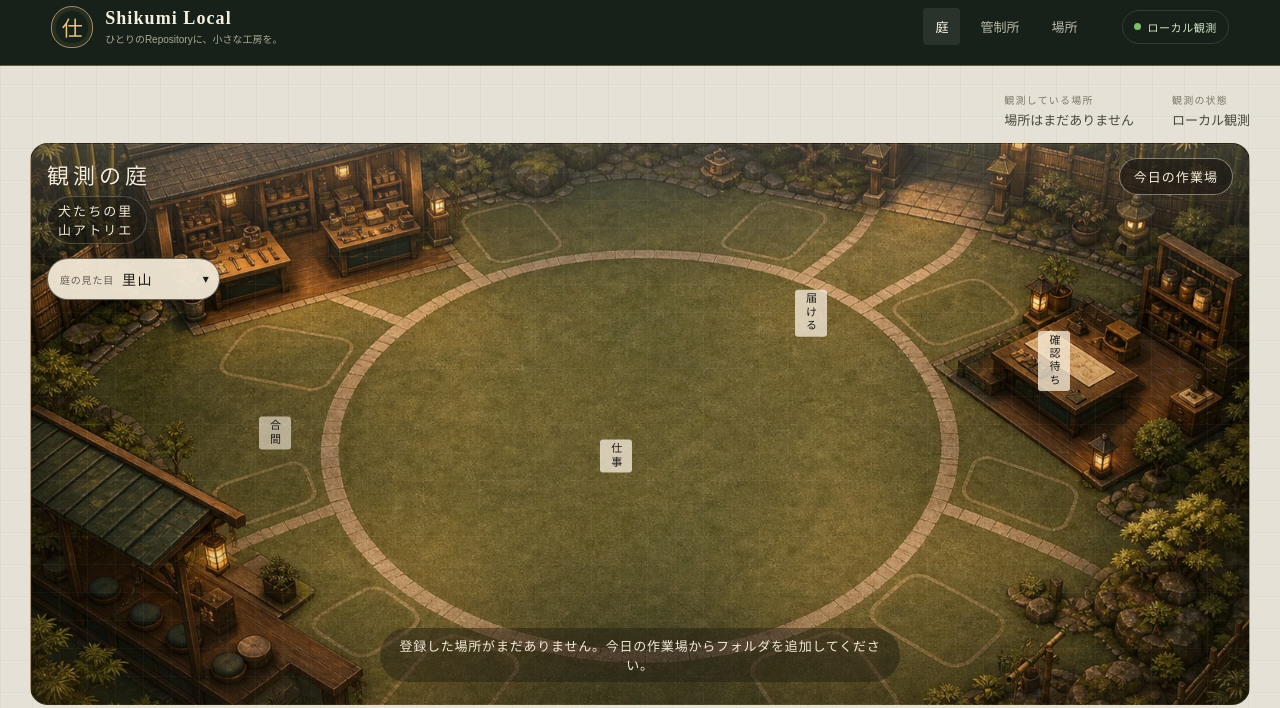
Shikumi Local garden › fills a path from the native folder picker before registering
Click the link "場所": (1064, 28) [1052,20,1078,35]
(page scrolled)
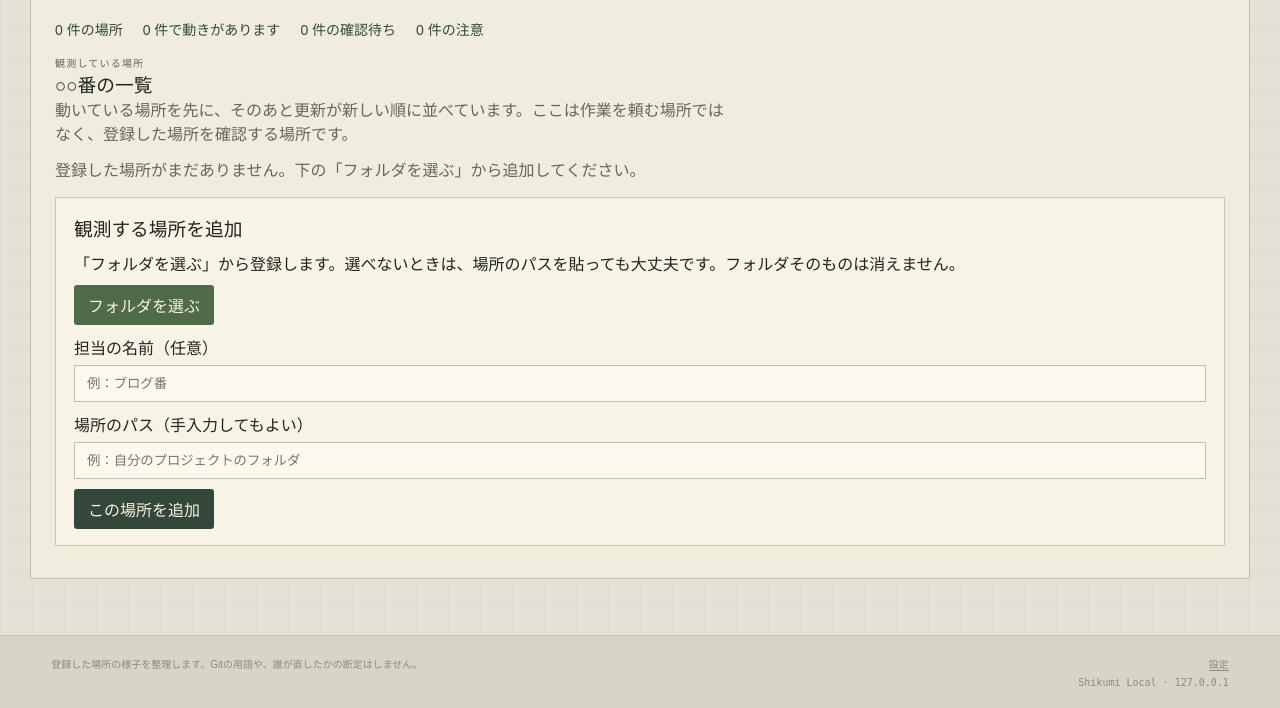
In the field labelled "担当の名前（任意）": (640, 383) [74,365,1206,402], type "ブログ番"
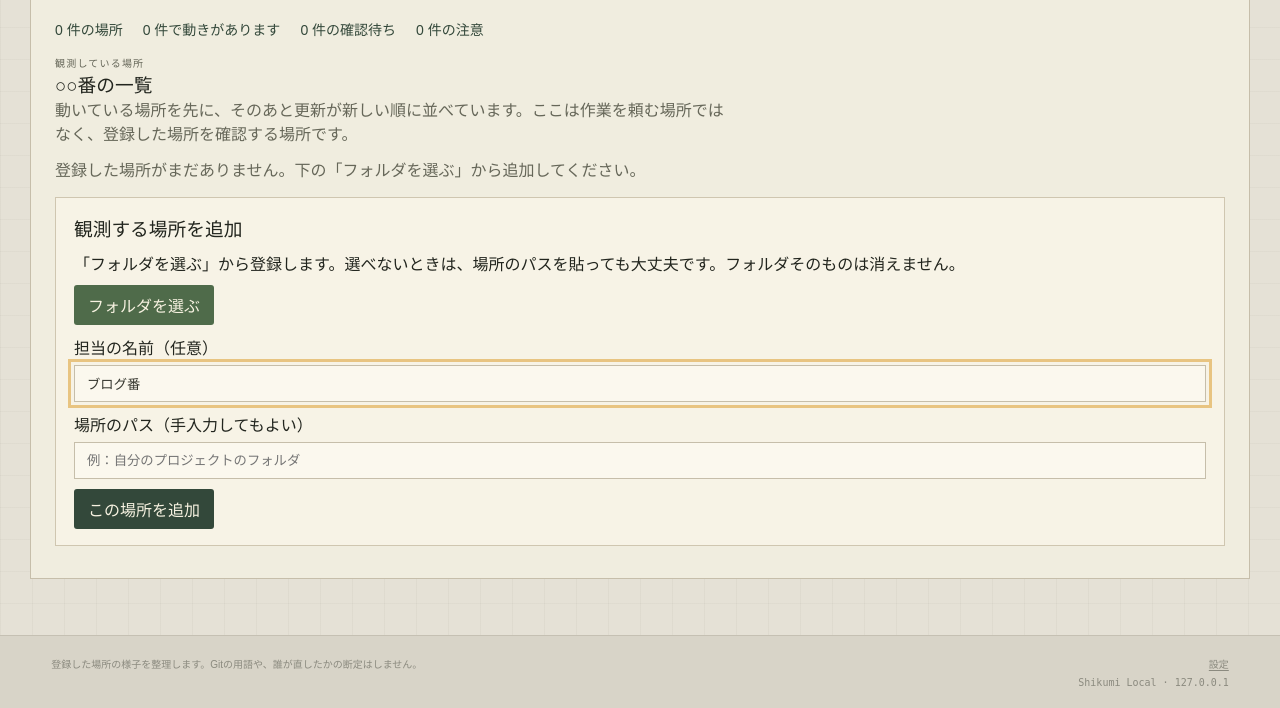
Click the button "フォルダを選ぶ": (144, 305) [74,285,214,325]
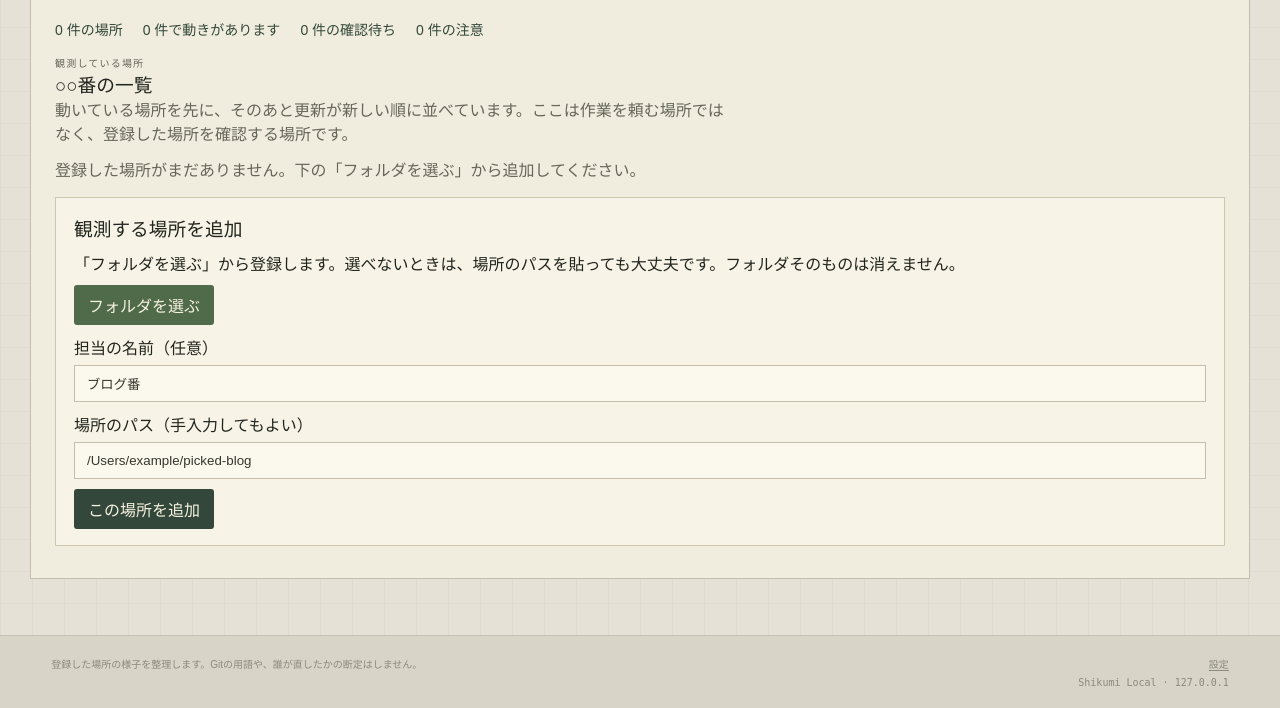
Expected: the field labelled "場所のパス" holds "/Users/example/picked-blog", [74,442,1206,479]
Click the button "この場所を追加": (144, 509) [74,489,214,529]
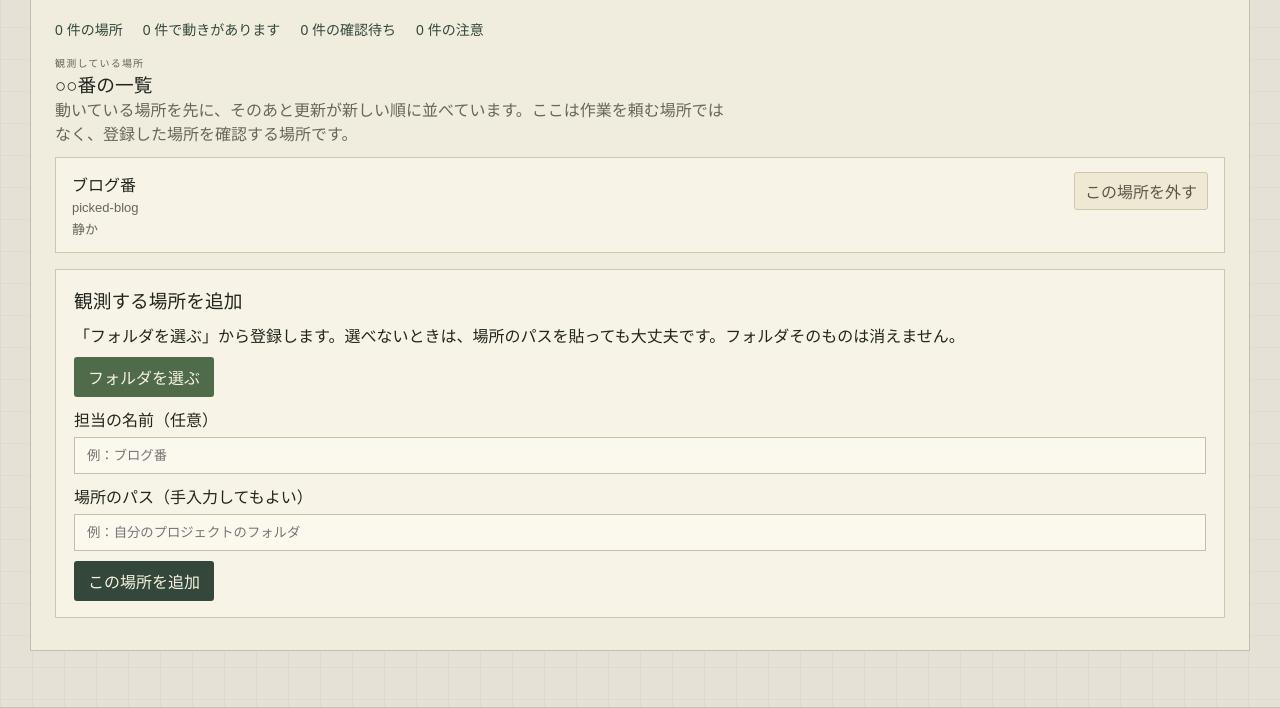
Expected: the text "ブログ番" is shown, [72,177,136,194]
